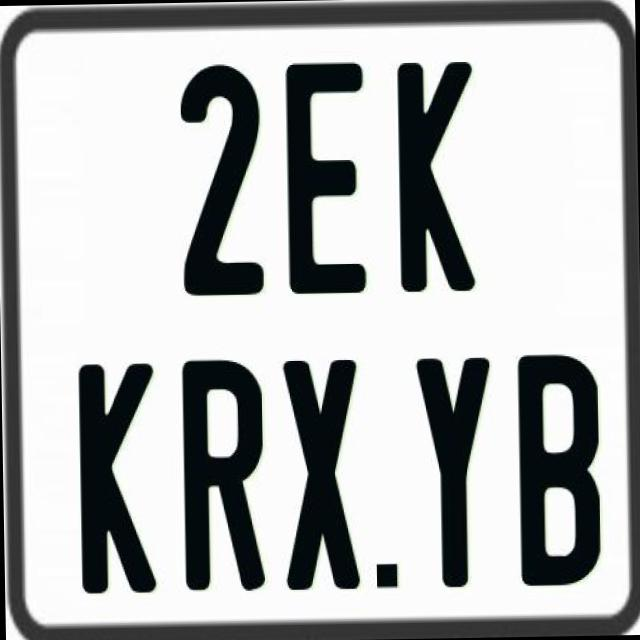2: (179, 63, 265, 304)
B: (516, 352, 604, 586)
E: (284, 57, 368, 289)
K: (76, 362, 160, 592), (394, 56, 474, 294)
R: (180, 358, 270, 599)
X: (280, 356, 356, 590)
Y: (414, 352, 494, 588)
